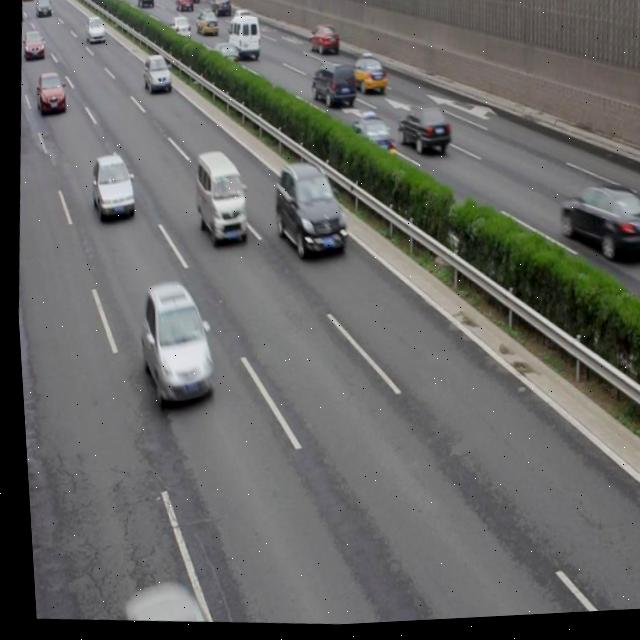car: (131, 282, 216, 408), (268, 160, 348, 265), (552, 183, 640, 266), (87, 153, 135, 223), (394, 107, 451, 160), (344, 110, 394, 163), (346, 55, 387, 99), (33, 72, 68, 116), (306, 25, 339, 60), (140, 56, 170, 94), (19, 26, 46, 59), (210, 41, 240, 70), (194, 7, 220, 40), (84, 16, 107, 47), (168, 17, 192, 42), (228, 9, 249, 32), (210, 0, 231, 20), (174, 0, 194, 16), (638, 182, 640, 243)
truck: (188, 151, 251, 251), (306, 61, 356, 112), (225, 15, 261, 63)
